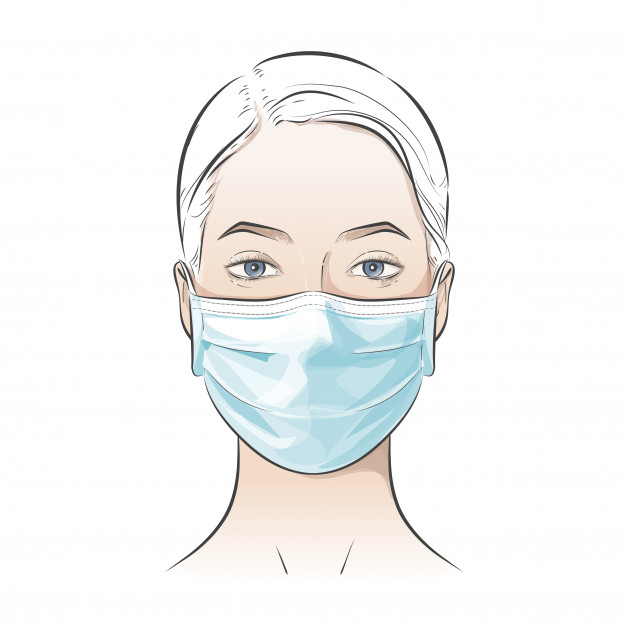mask: (176, 261, 443, 466)
